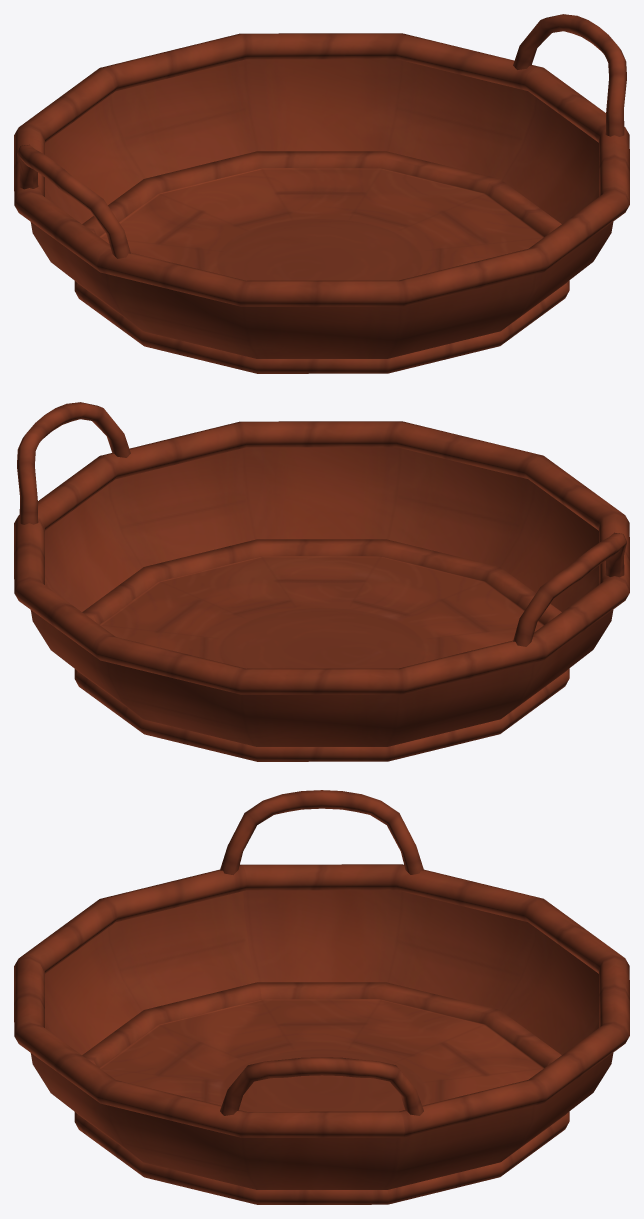
Rendered from basket_0.fbx.
3 views of the same model, one above another, from view 1: azimuth 30°, elevation 25°; view 2: azimuth 150°, elevation 25°; view 3: azimuth 270°, elevation 25° (orthographic).
Parts seen in each view (by area): view 1: basket_for_roll; view 2: basket_for_roll; view 3: basket_for_roll.
Part boxes in pixels (x1,y1,x2,y2): basket_for_roll: [14, 14, 629, 373]; basket_for_roll: [14, 402, 629, 761]; basket_for_roll: [14, 790, 629, 1204].
Bounding box in the file's own units: 35.01 × 10.51 × 33.18.
